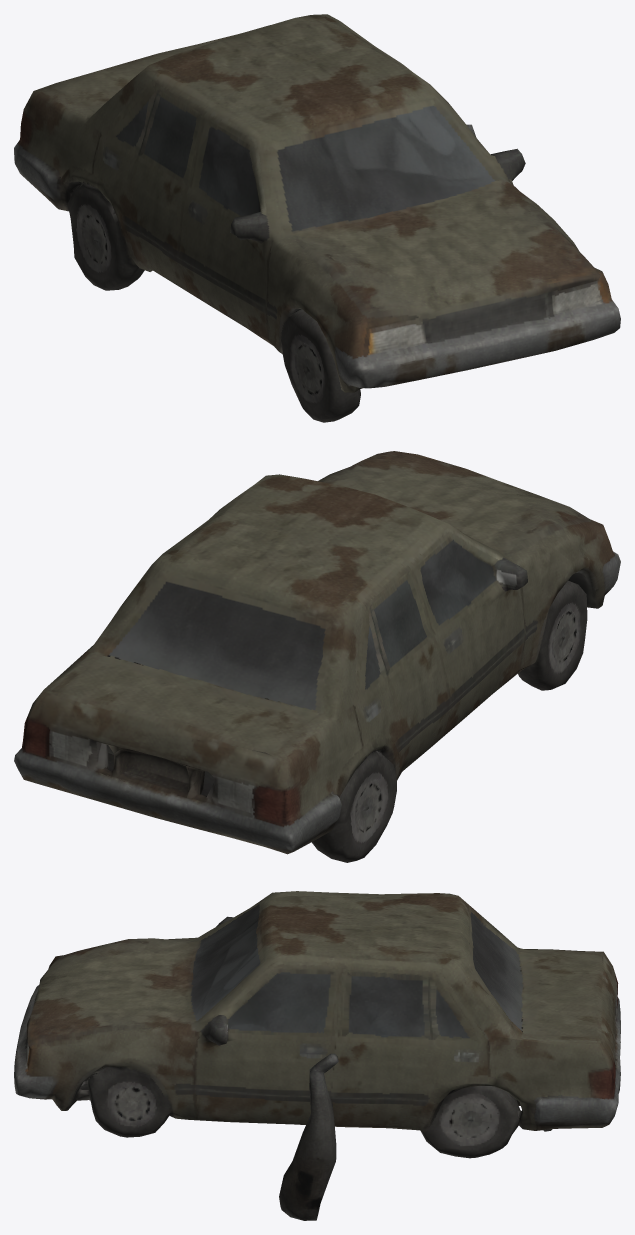
File: wreck_car_candidate.glb
3 renders of one model, top to bottom at view 1: azimuth 30°, elevation 25°; view 2: azimuth 150°, elevation 25°; view 3: azimuth 270°, elevation 25°, orthographic. The views are drawn at different scales.
Parts seen in each view (by area): view 1: wreck_car_candidate; view 2: wreck_car_candidate; view 3: wreck_car_candidate.
Part boxes in pixels (x1=…): wreck_car_candidate: x1=14, y1=14, x2=620, y2=422; wreck_car_candidate: x1=14, y1=451, x2=620, y2=862; wreck_car_candidate: x1=14, y1=891, x2=620, y2=1220.
Size of the model in its own units: 2.44 by 2 by 4.73.
1 material, 1 textured.
